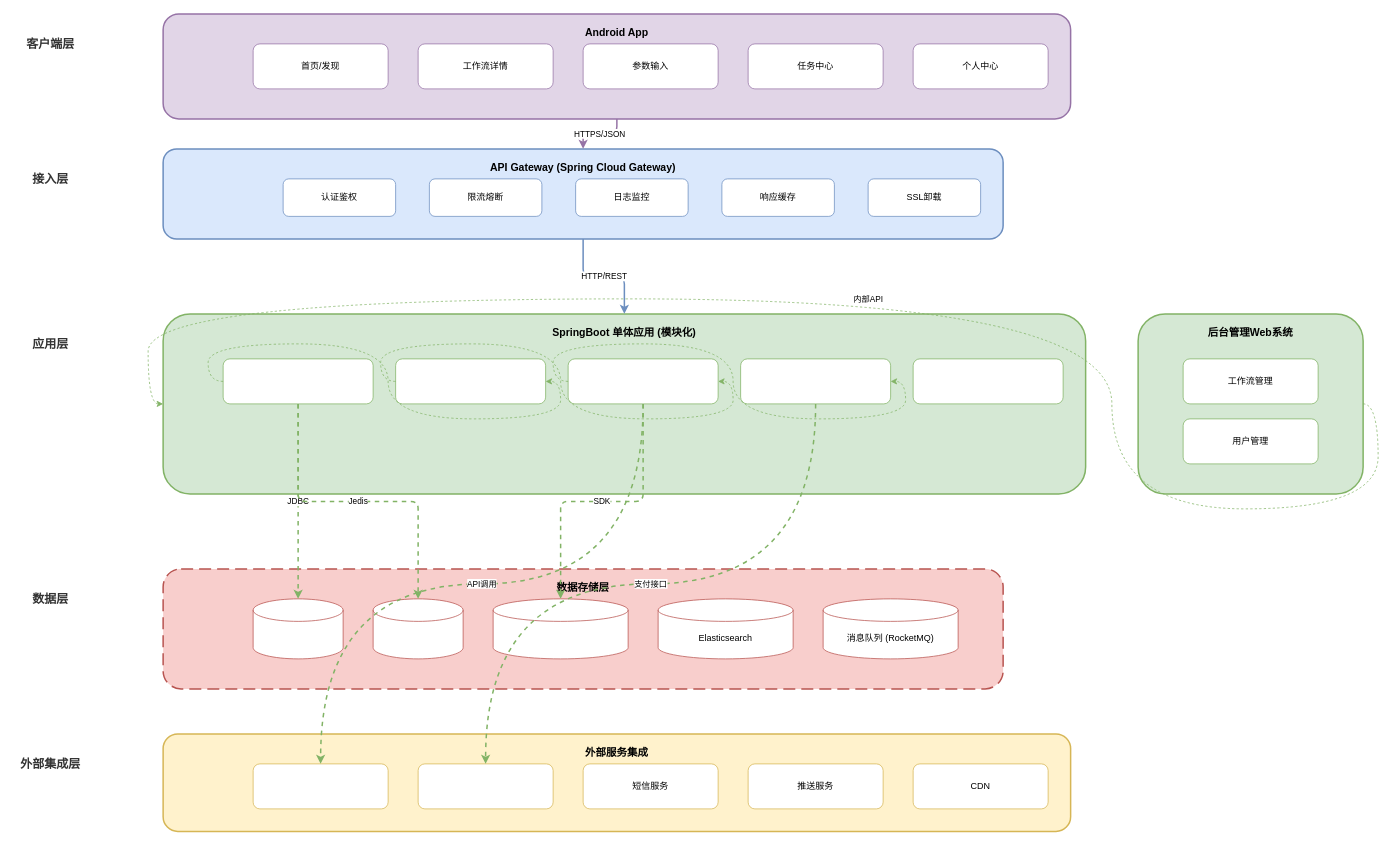
Image size: 1391x845. Some labels were removed from this diagram. The shapes that lost their labels are listed below. From the top down, each one's centre as x and y in pixels, then its label:
(x=297, y=381): 用户服务模块
(x=470, y=381): 工作流服务模块
(x=642, y=381): 任务服务模块
(x=815, y=381): 支付服务模块
(x=987, y=381): 后台管理模块
(x=297, y=628): MySQL
(x=417, y=628): Redis
(x=560, y=628): 对象存储 (OSS)
(x=320, y=786): 扣子工作流API
(x=485, y=786): 支付网关
